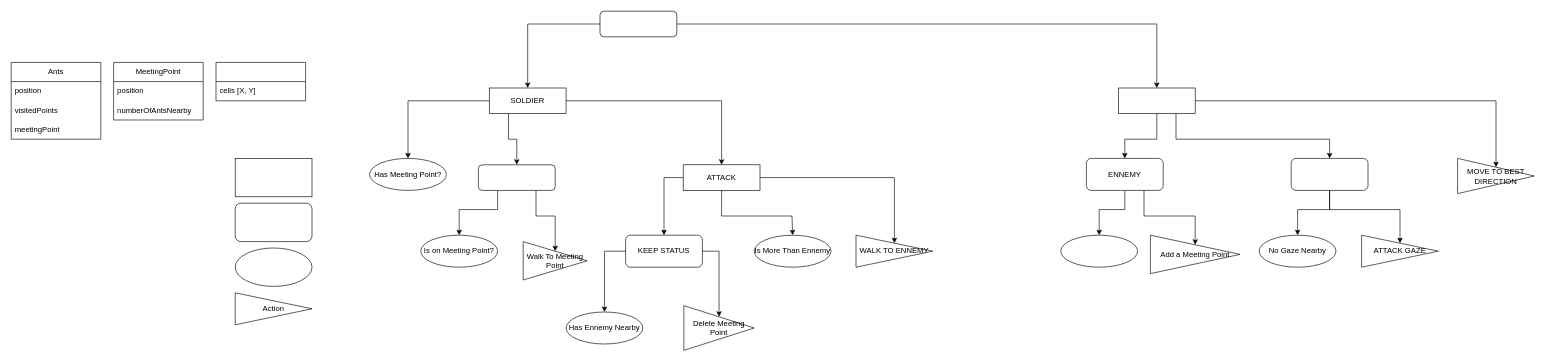
The diagram is 1546 pixels wide and 362 high, and some of its shapes have lost their labels. The shapes that lost their labels are listed below. From the top down, each one's box as (x1, y1, x2, y2) in pixels, then its label:
(599, 11, 677, 37): IAFourmis
(215, 62, 306, 101): Grid
(1118, 87, 1195, 114): SCOUT
(235, 158, 312, 197): Sequence
(478, 164, 555, 190): MEETING POINT
(1291, 158, 1368, 190): GAZE
(235, 203, 312, 242): Selector
(235, 247, 312, 286): Input
(1060, 235, 1138, 267): No Ennemy Nearby
